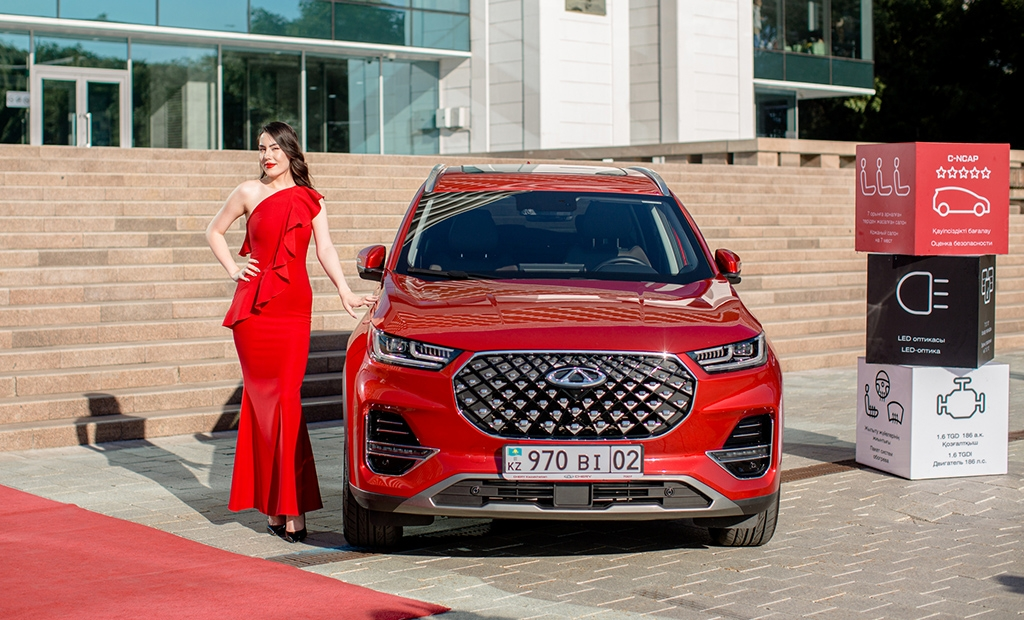car: (338, 158, 790, 556)
plate: (500, 441, 645, 484)
